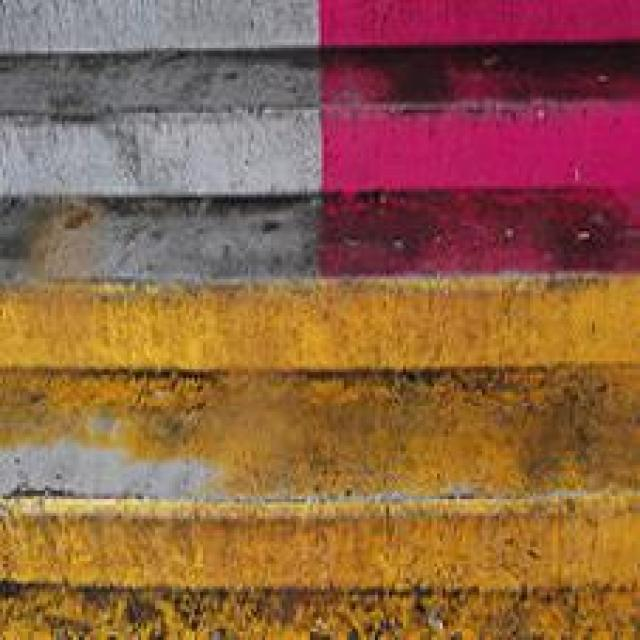upstair: (15, 88, 596, 579)
